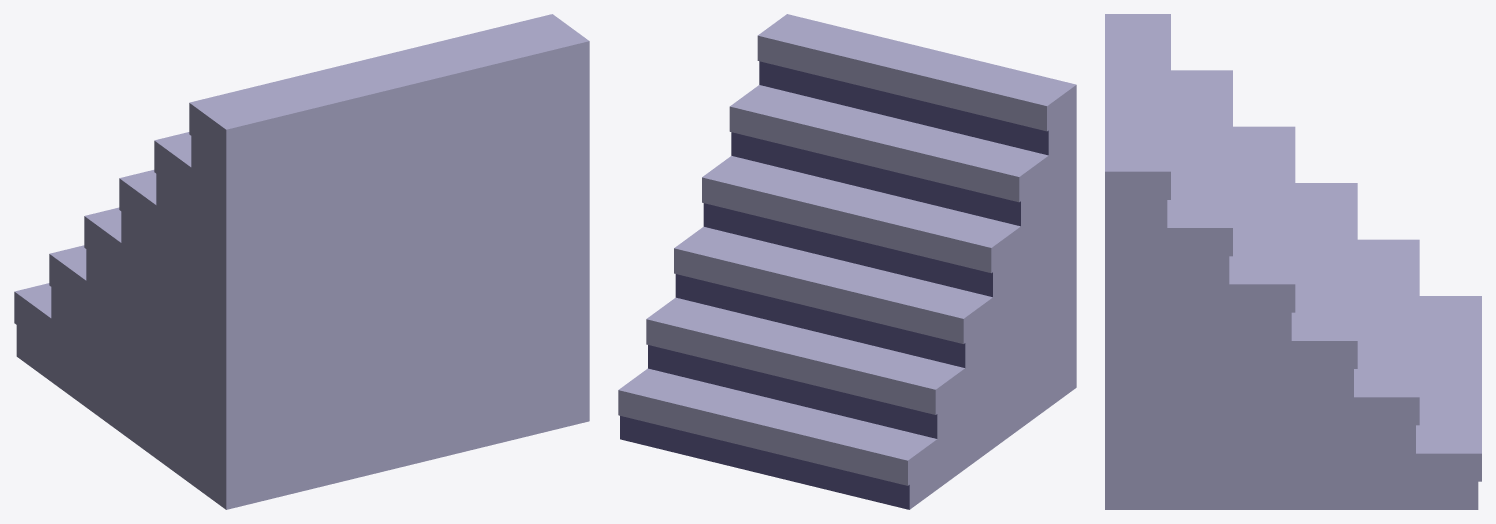
The model's file is stairstest.glb.
The picture shows the model from 3 angles, left to right: view 1: azimuth 30°, elevation 25°; view 2: azimuth 150°, elevation 25°; view 3: azimuth 270°, elevation 25°; orthographic projection. The views are drawn at different scales.
Visible parts, largest first — view 1: stairs; view 2: stairs; view 3: stairs.
Boxes of the visible parts, <box> form: stairs: <box>14,14,589,509</box>; stairs: <box>618,14,1076,509</box>; stairs: <box>1105,14,1481,509</box>.
Bounding box in the file's own units: 1 × 1 × 1.01.
